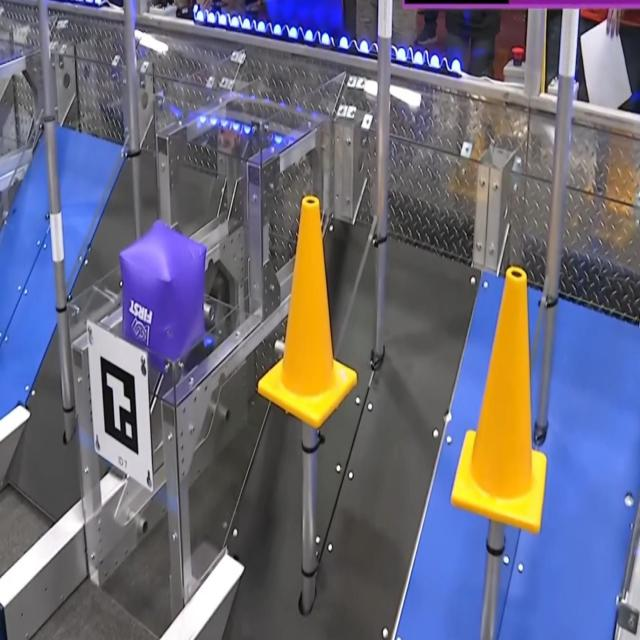frc_cone: (450, 269, 547, 534), (257, 197, 358, 433)
frc_cube: (117, 216, 205, 372)
